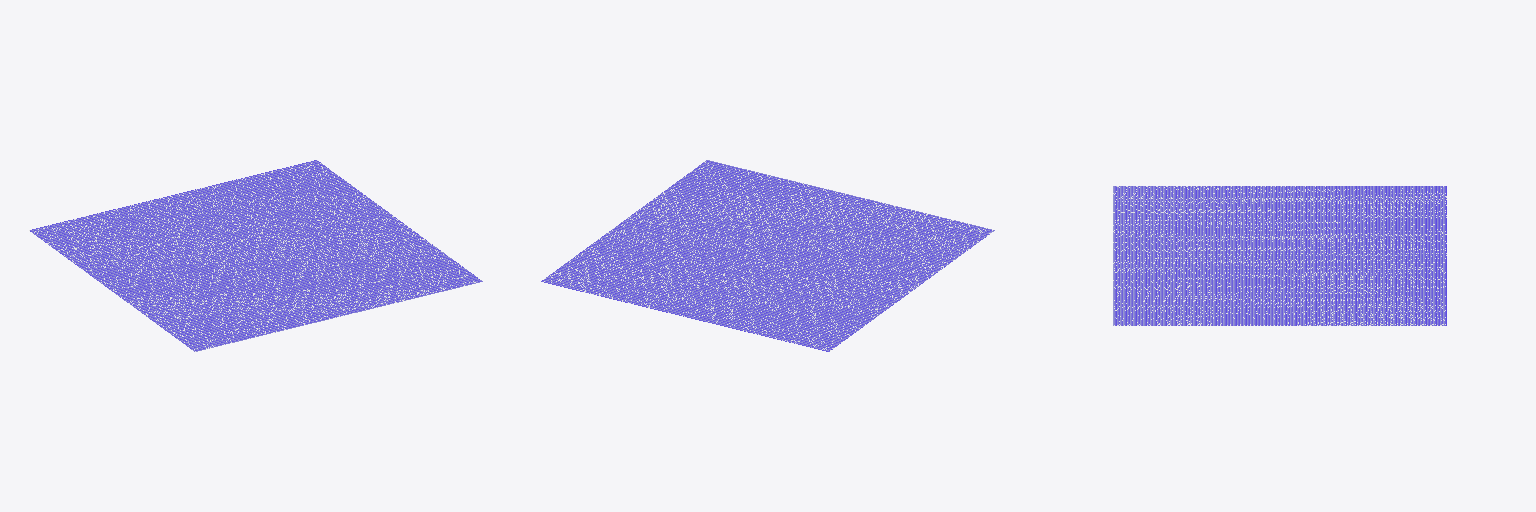
3 views of the same model, side by side, from view 1: azimuth 30°, elevation 25°; view 2: azimuth 150°, elevation 25°; view 3: azimuth 270°, elevation 25° (orthographic).
Visible parts, largest first — view 1: Plane001; view 2: Plane001; view 3: Plane001.
Boxes of the visible parts, <box> form: Plane001: <box>29,160,482,351</box>; Plane001: <box>541,160,994,351</box>; Plane001: <box>1113,186,1446,325</box>.
Bounding box in the file's own units: 200 × 0 × 200.
Materials: 1 (1 with a texture image).